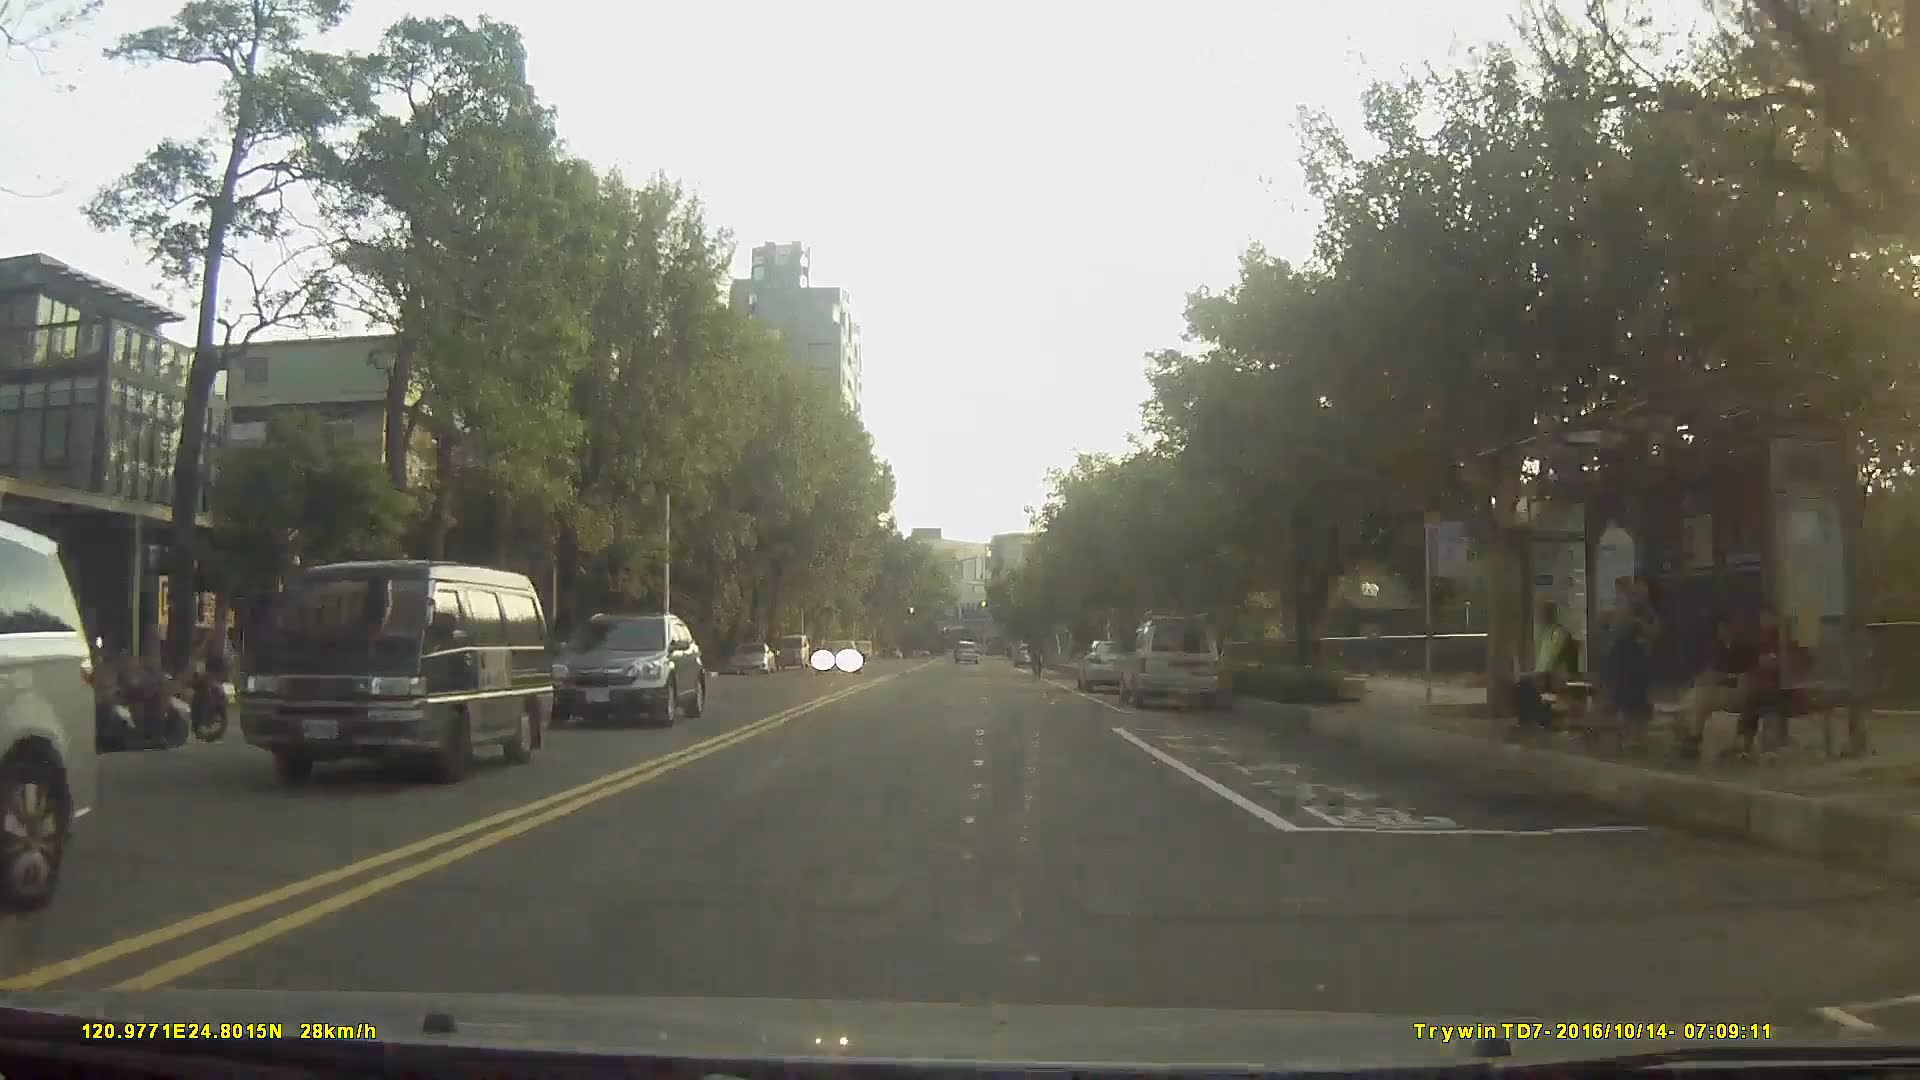pedestrian: (1732, 597, 1834, 767), (1671, 609, 1769, 766), (1589, 572, 1659, 753), (1513, 591, 1588, 734)
rider: (1028, 633, 1048, 683)
vehicle: (232, 557, 550, 789), (0, 511, 100, 913), (546, 610, 706, 725), (1117, 617, 1220, 710), (1077, 637, 1140, 692), (813, 636, 859, 674), (728, 639, 774, 675), (773, 631, 810, 672), (952, 640, 978, 667), (1014, 642, 1040, 667)
